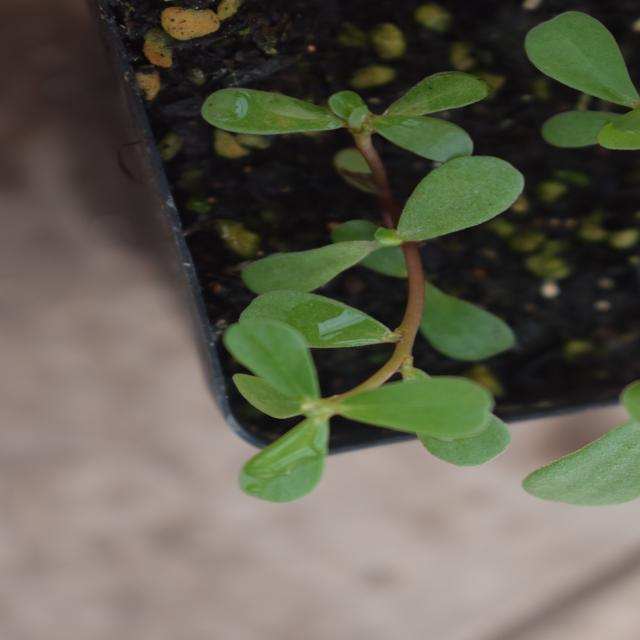purslane: (39, 121, 537, 432)
